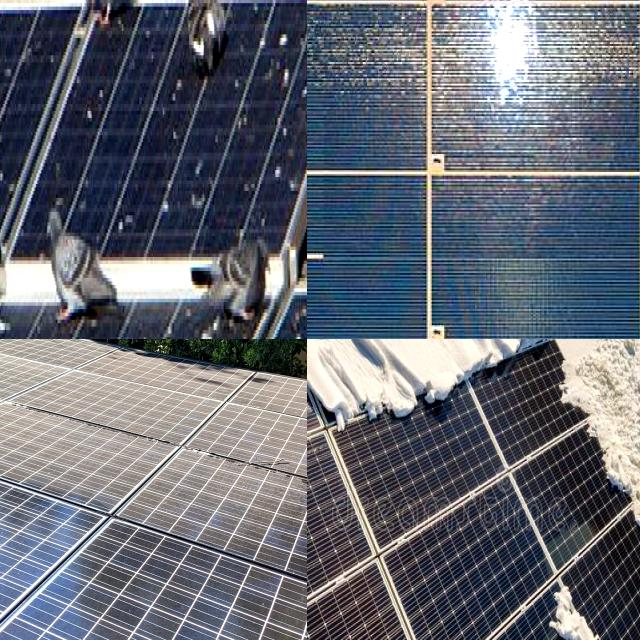bird: (276, 5, 307, 112), (0, 23, 43, 99), (266, 146, 304, 223), (188, 139, 218, 227), (81, 72, 112, 136), (112, 192, 140, 250), (0, 151, 24, 218), (128, 311, 183, 339), (0, 84, 25, 144), (0, 10, 15, 92), (166, 52, 187, 98), (0, 83, 11, 170), (0, 310, 19, 339)
dust: (0, 400, 152, 524), (169, 430, 289, 560), (145, 362, 252, 416), (0, 358, 59, 453), (0, 339, 125, 380)
panel: (307, 339, 427, 458), (557, 339, 640, 506), (535, 546, 600, 640), (440, 339, 510, 406), (307, 339, 346, 420), (510, 339, 575, 386), (307, 598, 338, 640), (307, 437, 314, 514)
shadow: (420, 0, 640, 180), (307, 0, 442, 99)
